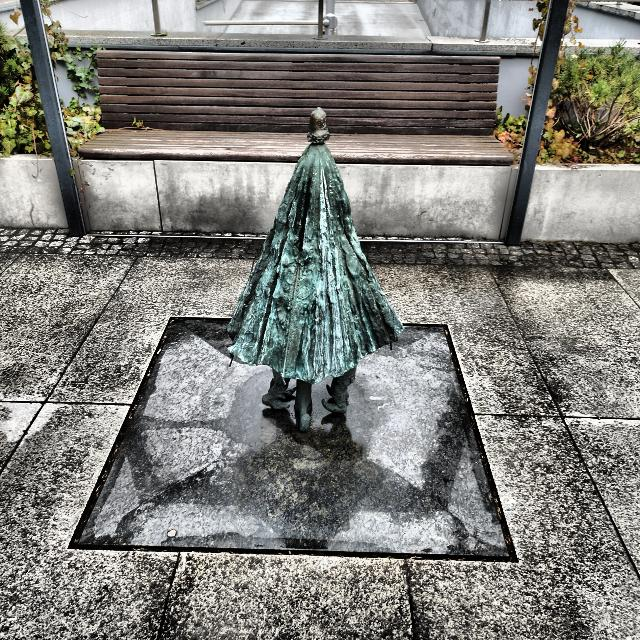Parasolniki: (225, 109, 404, 432)
